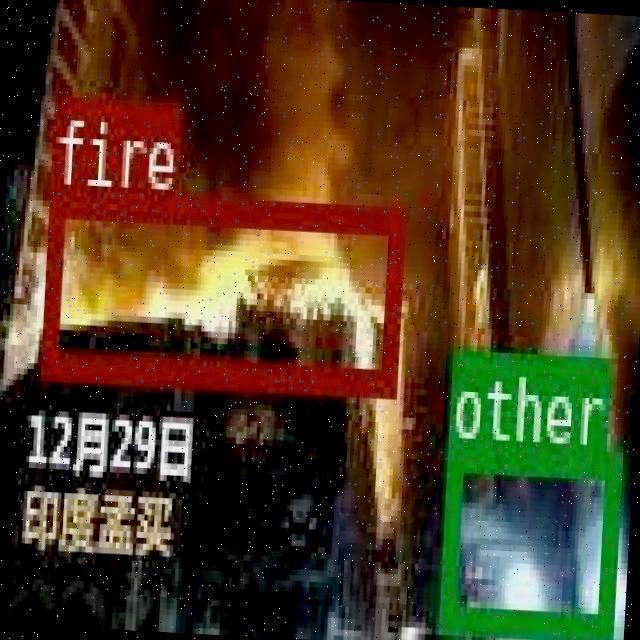fire: (39, 189, 403, 390)
